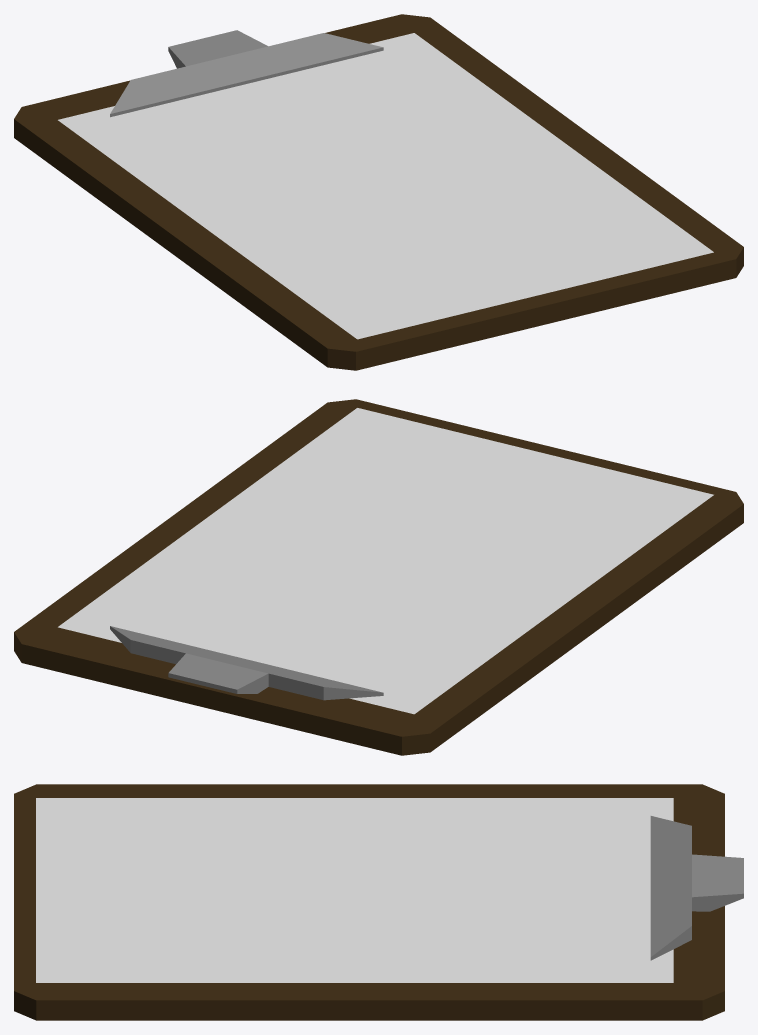
Rendered from clipboard.glb.
3 views of the same model, one above another, from view 1: azimuth 30°, elevation 25°; view 2: azimuth 150°, elevation 25°; view 3: azimuth 270°, elevation 25° (orthographic). The views are drawn at different scales.
Parts seen in each view (by area): view 1: Paper, Board, Clip; view 2: Paper, Board, Clip; view 3: Paper, Board, Clip.
Boxes of the visible parts, x1,y1,x2,y2 form: Paper: (58,33,713,339); Board: (14,14,743,370); Clip: (110,30,383,117); Paper: (58,408,713,714); Board: (14,399,743,755); Clip: (110,626,383,700); Paper: (36,798,673,982); Board: (14,784,724,1020); Clip: (650,816,743,960).
Size of the model in its own units: 0.23 by 0.0182 by 0.3286.
